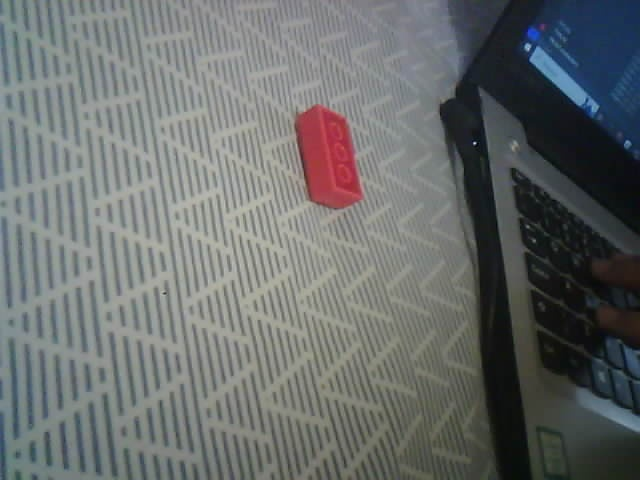lego: (294, 103, 364, 209)
